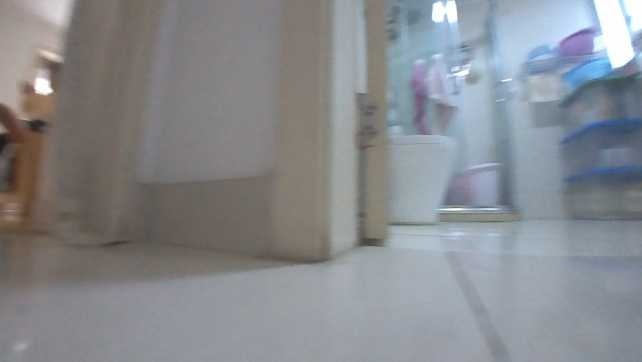toilet: (383, 131, 461, 225)
